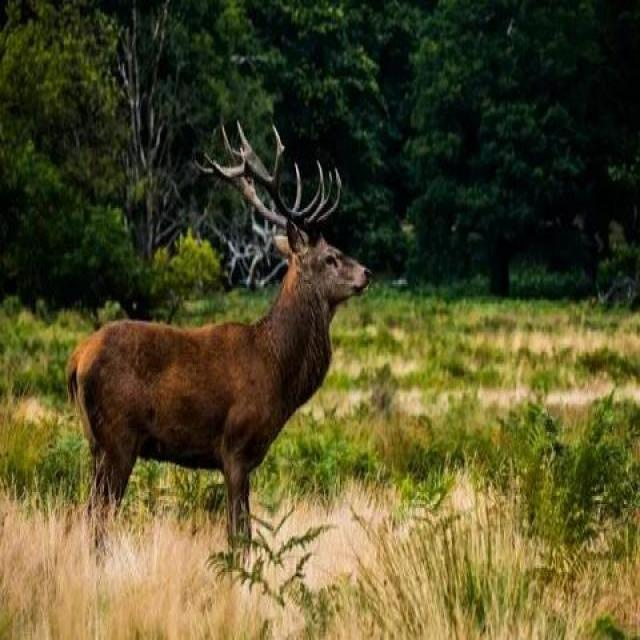deer: (42, 99, 392, 508)
